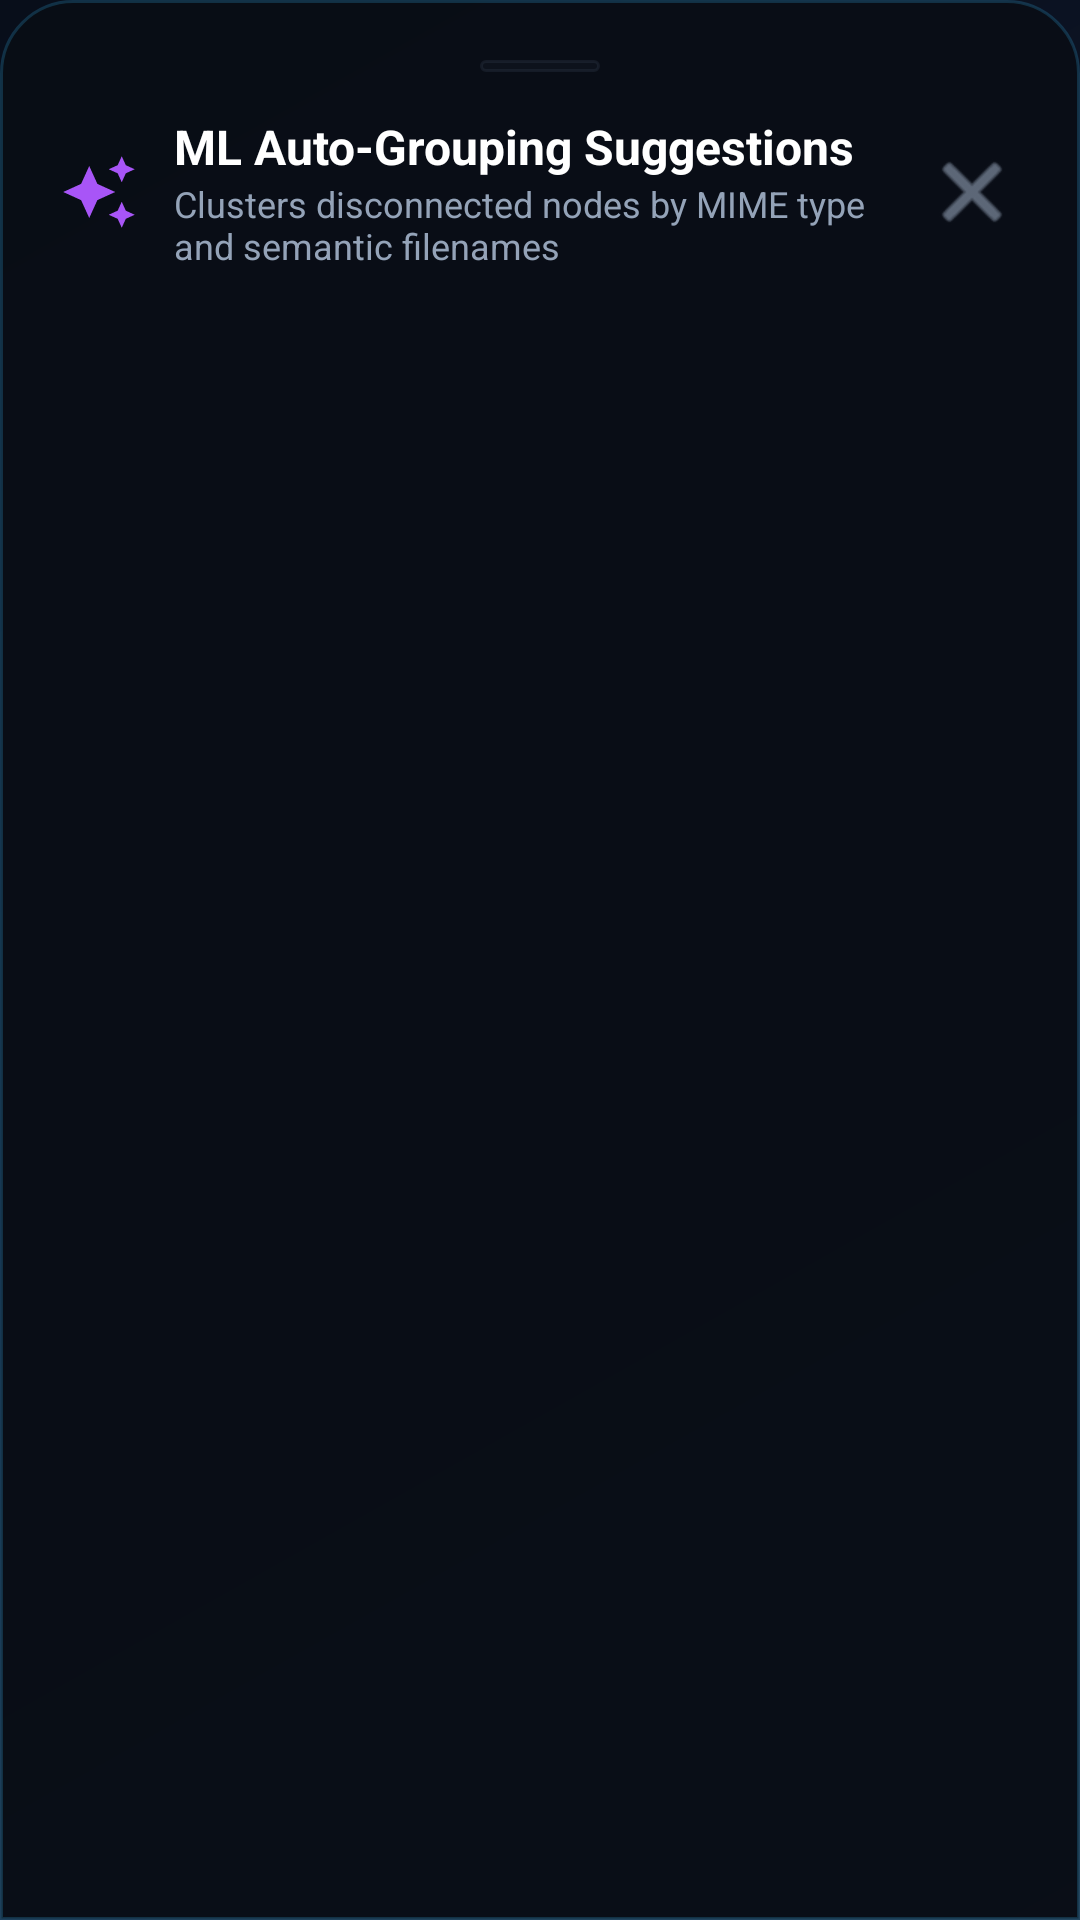

Icon bounding boxes for this 1080px×1920px phone screenshot, format Rect(x1, y1, x2, y2):
Close: Rect(942, 162, 1002, 222)
